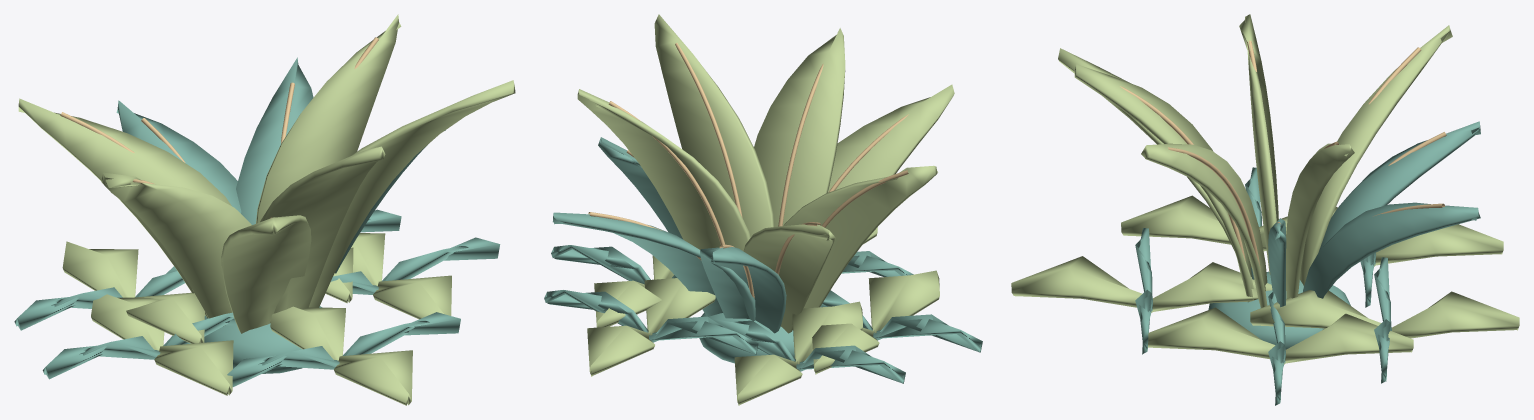
File: bio_mist_leaf_10_far.glb
The picture shows the model from 3 angles, left to right: view 1: azimuth 30°, elevation 25°; view 2: azimuth 150°, elevation 25°; view 3: azimuth 270°, elevation 25°; orthographic projection. The views are drawn at different scales.
Visible parts, largest first — view 1: Cupped condensate leaf.008, Cupped condensate leaf.004, Cupped condensate leaf.007, Cupped condensate leaf.001, Cupped condensate leaf.002, Cupped condensate leaf.005, Low buttress leaf.009, Low buttress leaf.005, Low buttress leaf.017, Cupped condensate leaf.003, Low buttress leaf.001, Low buttress leaf.008 (+8 smaller); view 2: Cupped condensate leaf.002, Cupped condensate leaf.005, Cupped condensate leaf.008, Cupped condensate leaf.004, Cupped condensate leaf.007, Cupped condensate leaf.001, Cupped condensate leaf.003, Low buttress leaf.017, Low buttress leaf.013, Low buttress leaf.005, Cupped condensate leaf.006, Low buttress leaf.012 (+12 smaller); view 3: Low buttress leaf.001, Low buttress leaf.009, Cupped condensate leaf.003, Low buttress leaf.013, Cupped condensate leaf.001, Cupped condensate leaf.002, Cupped condensate leaf.005, Cupped condensate leaf.006, Cupped condensate leaf.008, Cupped condensate leaf.004, Low buttress leaf.017, Low buttress leaf.005 (+10 smaller).
Part boxes in pixels (x1=…): Cupped condensate leaf.008: x1=256, y1=14, x2=401, y2=223; Cupped condensate leaf.004: x1=101, y1=172, x2=251, y2=326; Cupped condensate leaf.007: x1=221, y1=215, x2=311, y2=333; Cupped condensate leaf.001: x1=18, y1=98, x2=231, y2=317; Cupped condensate leaf.002: x1=260, y1=146, x2=385, y2=322; Cupped condensate leaf.005: x1=308, y1=80, x2=515, y2=307; Low buttress leaf.009: x1=270, y1=306, x2=412, y2=405; Low buttress leaf.005: x1=62, y1=241, x2=204, y2=343; Low buttress leaf.017: x1=91, y1=290, x2=233, y2=395; Cupped condensate leaf.003: x1=236, y1=57, x2=313, y2=224; Low buttress leaf.001: x1=351, y1=233, x2=451, y2=319; Low buttress leaf.008: x1=227, y1=312, x2=460, y2=386; Cupped condensate leaf.002: x1=754, y1=28, x2=845, y2=226; Cupped condensate leaf.005: x1=654, y1=14, x2=774, y2=237; Cupped condensate leaf.008: x1=577, y1=89, x2=750, y2=251; Cupped condensate leaf.004: x1=783, y1=165, x2=937, y2=308; Cupped condensate leaf.007: x1=828, y1=84, x2=954, y2=192; Cupped condensate leaf.001: x1=743, y1=224, x2=835, y2=333; Cupped condensate leaf.003: x1=552, y1=212, x2=755, y2=321; Low buttress leaf.017: x1=812, y1=270, x2=939, y2=374; Low buttress leaf.013: x1=587, y1=278, x2=715, y2=376; Low buttress leaf.005: x1=734, y1=301, x2=862, y2=405; Cupped condensate leaf.006: x1=700, y1=247, x2=786, y2=333; Low buttress leaf.012: x1=544, y1=290, x2=758, y2=354; Low buttress leaf.001: x1=1148, y1=307, x2=1413, y2=364; Low buttress leaf.009: x1=1011, y1=256, x2=1272, y2=312; Cupped condensate leaf.003: x1=1303, y1=202, x2=1480, y2=298; Low buttress leaf.013: x1=1250, y1=290, x2=1519, y2=338; Cupped condensate leaf.001: x1=1300, y1=25, x2=1452, y2=285; Cupped condensate leaf.002: x1=1074, y1=64, x2=1253, y2=302; Cupped condensate leaf.005: x1=1141, y1=143, x2=1267, y2=307; Cupped condensate leaf.006: x1=1319, y1=121, x2=1480, y2=251; Cupped condensate leaf.008: x1=1286, y1=143, x2=1354, y2=298; Cupped condensate leaf.004: x1=1239, y1=14, x2=1278, y2=274; Low buttress leaf.017: x1=1121, y1=195, x2=1337, y2=251; Low buttress leaf.005: x1=1259, y1=216, x2=1503, y2=266.
Bounding box in the file's own units: 2.22 × 1.3 × 2.09.
